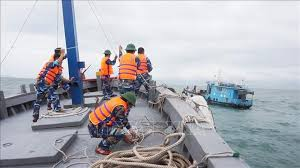tau_dansu: (190, 75, 253, 110)
